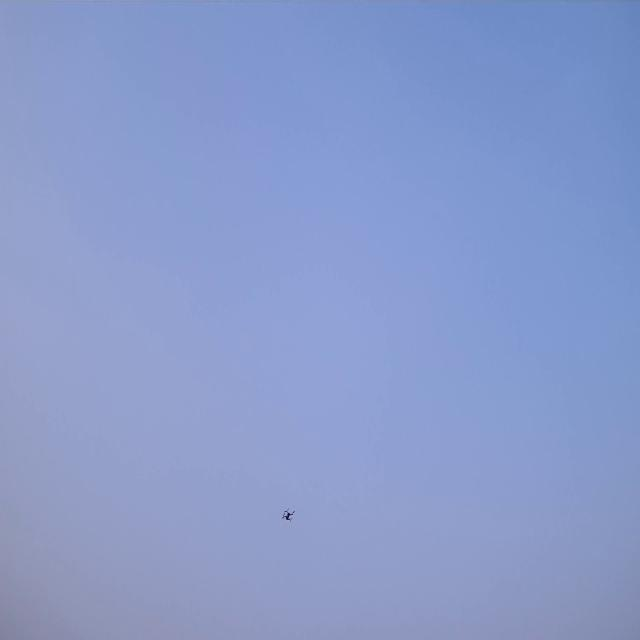UAV: (281, 507, 296, 523)
